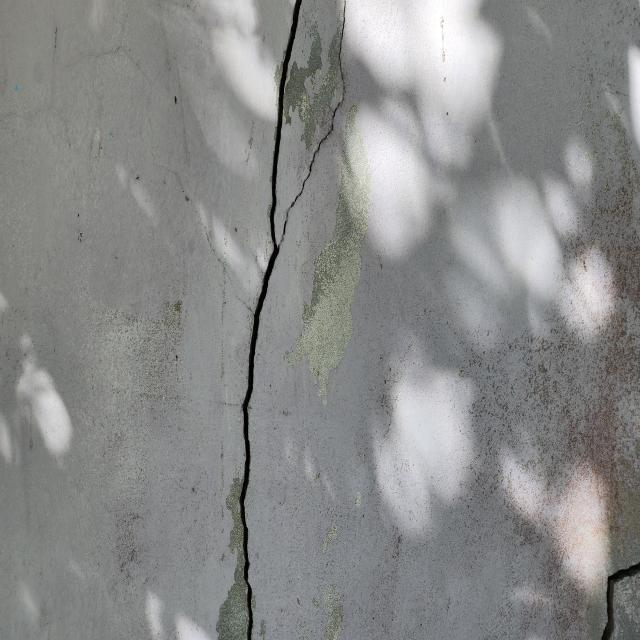SurfaceCrack: (184, 0, 379, 640)
